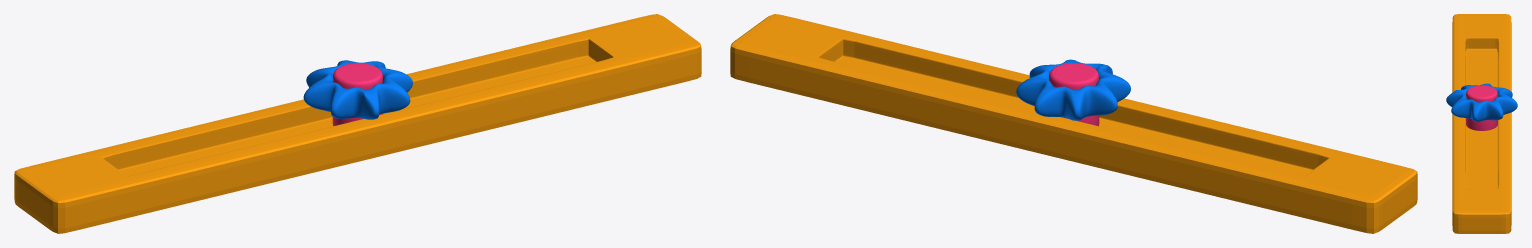
3 renders of one model, left to right at view 1: azimuth 30°, elevation 25°; view 2: azimuth 150°, elevation 25°; view 3: azimuth 270°, elevation 25°, orthographic. The views are drawn at different scales.
Visible parts, largest first — view 1: Zemin, Knife, Merkez.004; view 2: Zemin, Knife, Merkez.004; view 3: Zemin, Knife, Merkez.004.
Boxes of the visible parts, x1,y1,x2,y2 form: Zemin: [14, 14, 701, 233]; Knife: [303, 60, 412, 119]; Merkez.004: [332, 63, 382, 126]; Zemin: [730, 14, 1417, 233]; Knife: [1016, 59, 1130, 120]; Merkez.004: [1049, 63, 1099, 126]; Zemin: [1452, 14, 1511, 233]; Knife: [1446, 83, 1517, 121]; Merkez.004: [1466, 85, 1497, 130].
Bounding box in the file's own units: 79.96 × 8.04 × 12.08.
